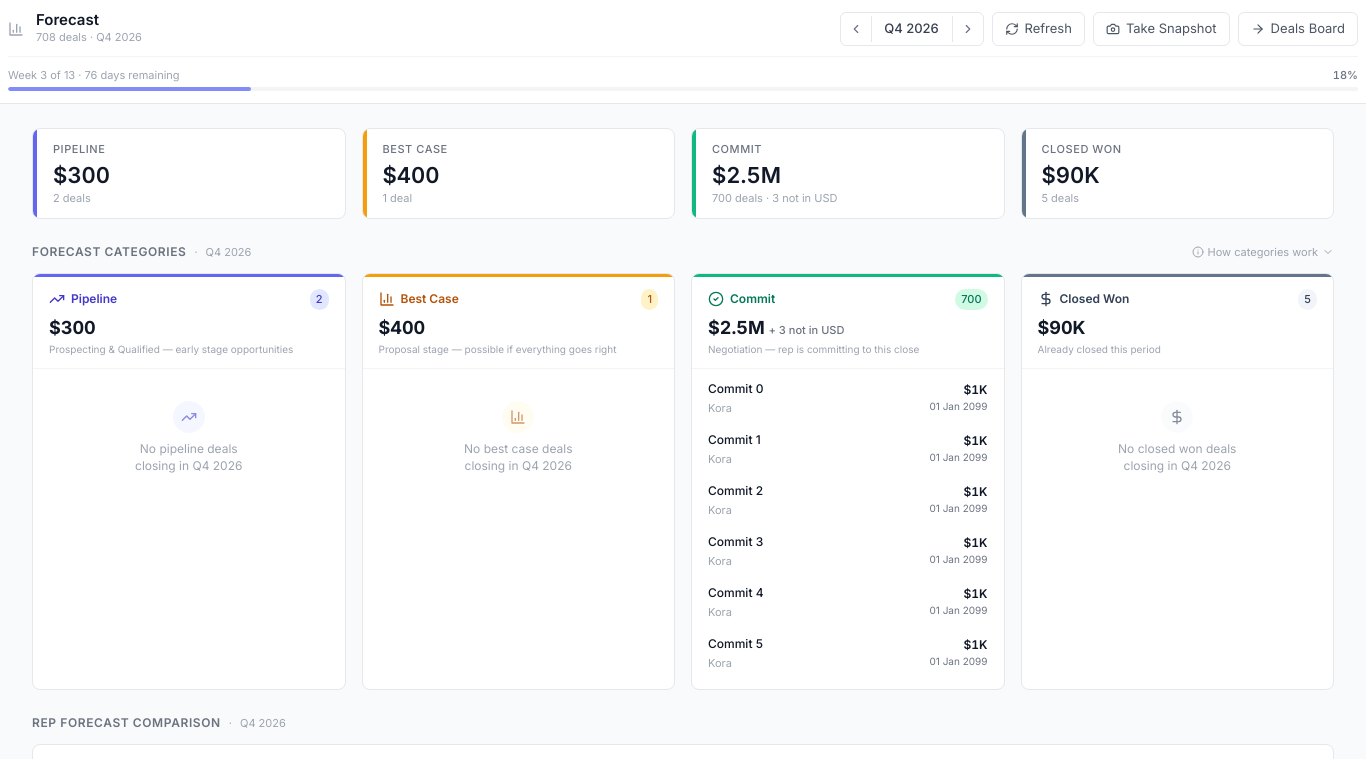
Scenario: ForecastPage — the server's quarter › Take Snapshot sends the period and day — never figures — and says "saved" only after a 2xx
This screenshot has width=1366, height=759.
Expected: the text "700 deals · 3 not in USD" is shown, [712,190,837,204]
What coordinates should you click on to do the following:
click the button "Take Snapshot"
I would click on:
 (1161, 29)
Its box is [1093,12,1230,46].
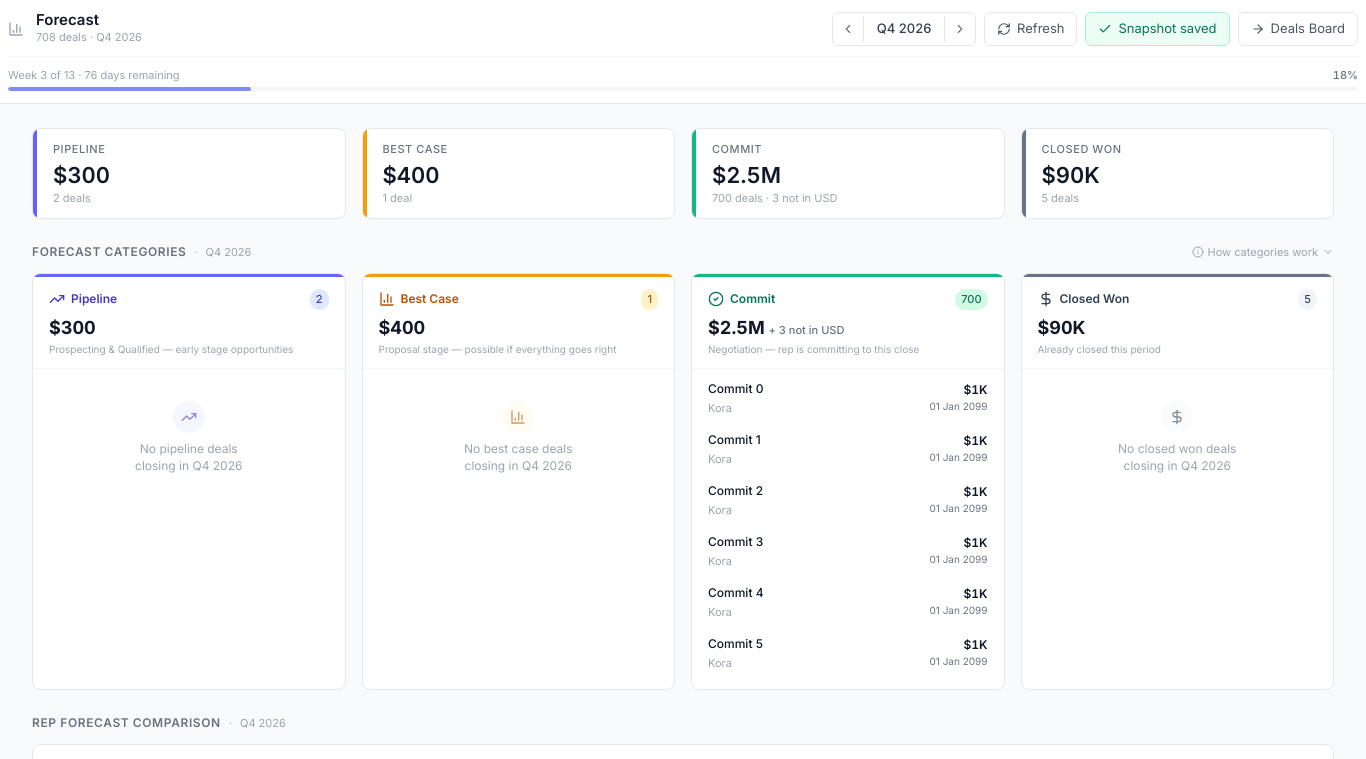
Result: the text "Snapshot saved" is shown at [1118,19,1217,38]
